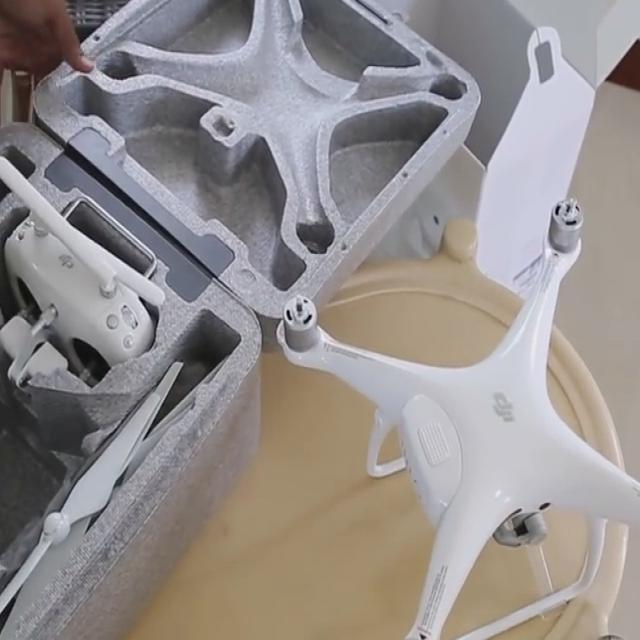drone: (273, 193, 640, 640)
